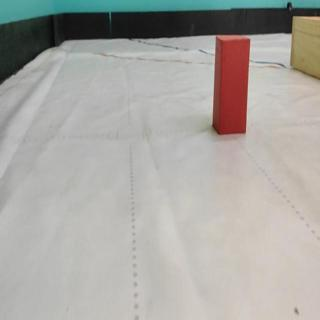redbox: (213, 33, 250, 134)
